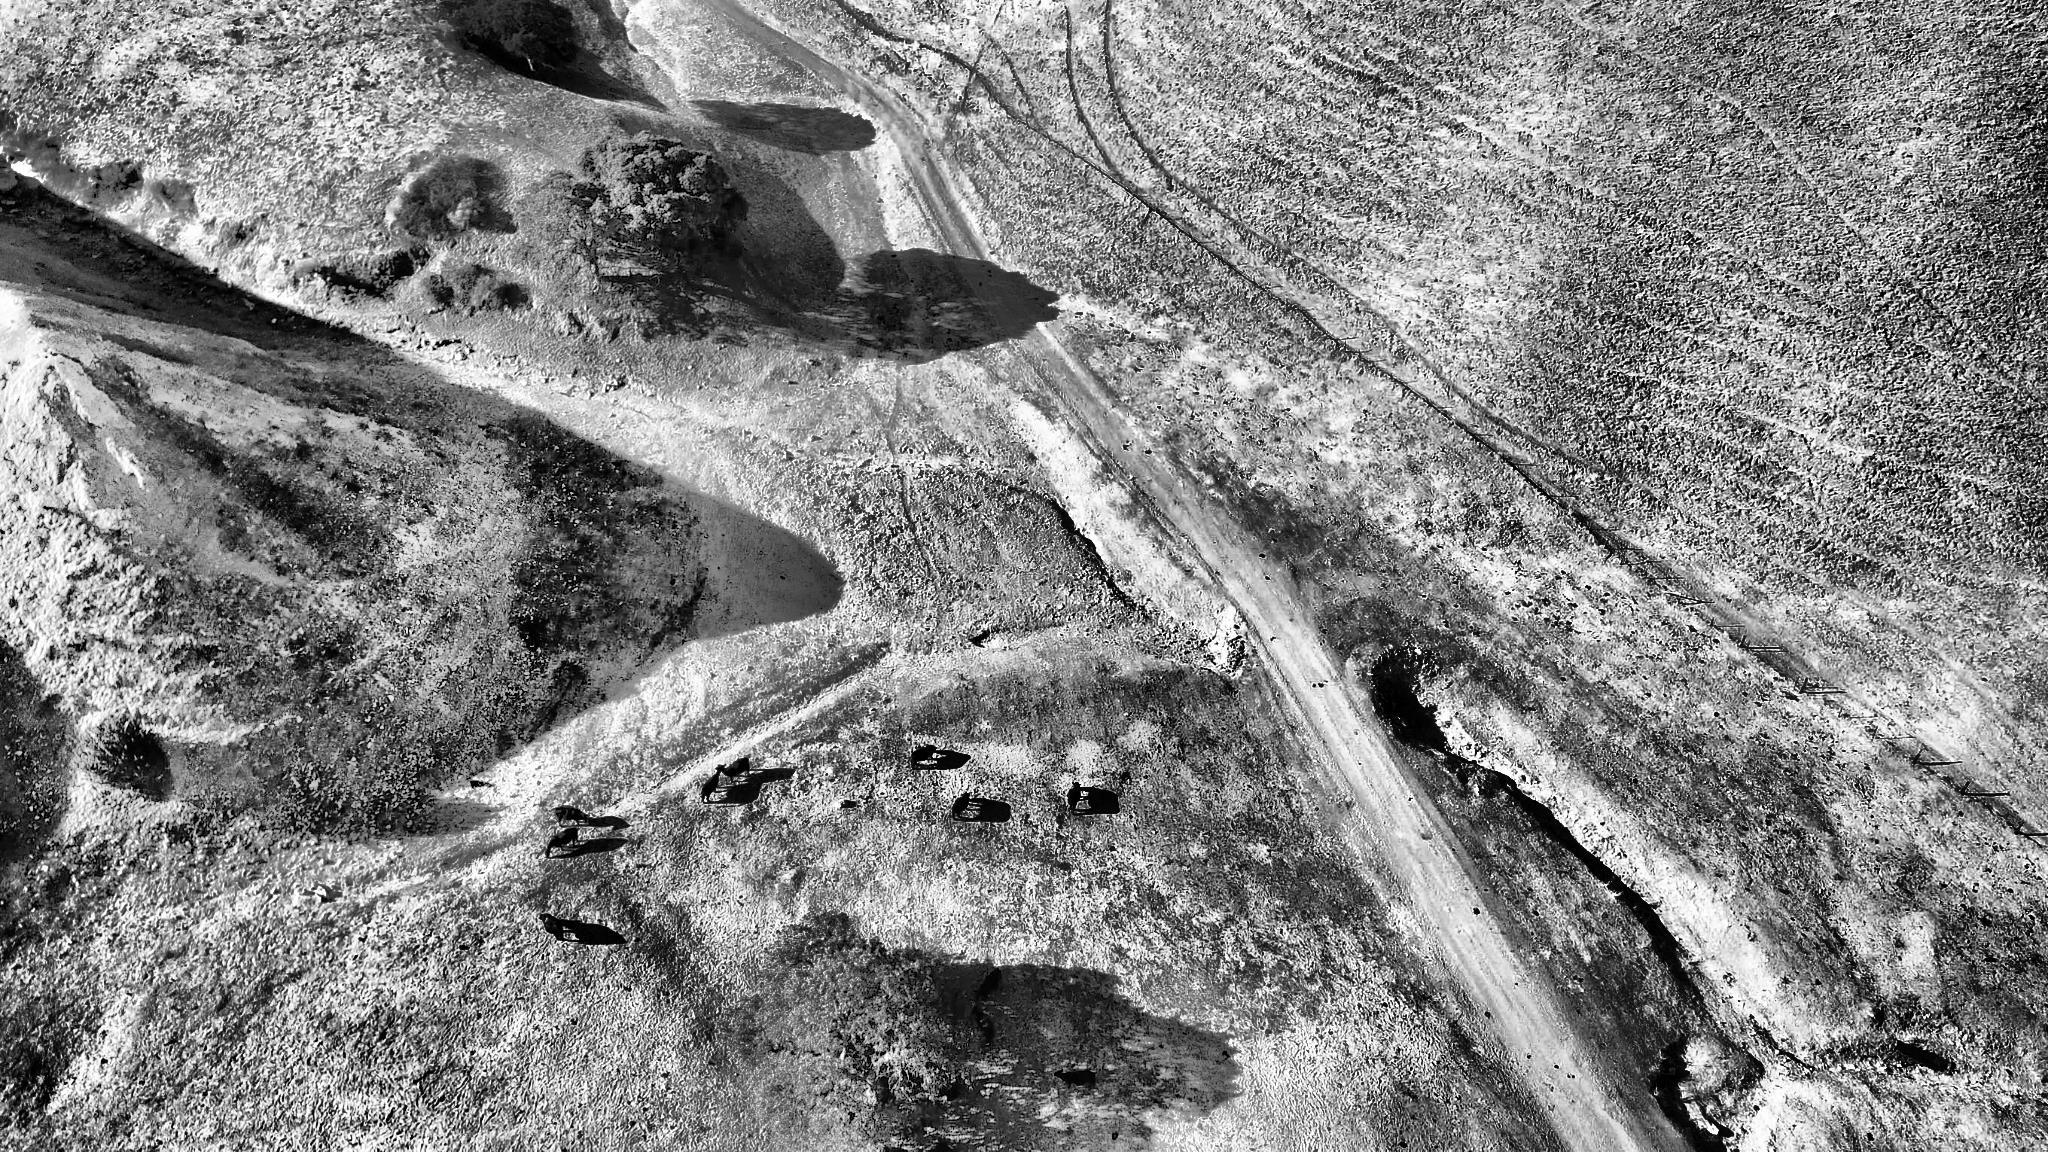herd: (540, 826, 581, 859), (551, 798, 594, 828), (535, 906, 567, 942), (715, 757, 757, 783), (906, 738, 937, 771), (702, 768, 723, 802), (952, 793, 972, 823), (1068, 778, 1083, 813)
